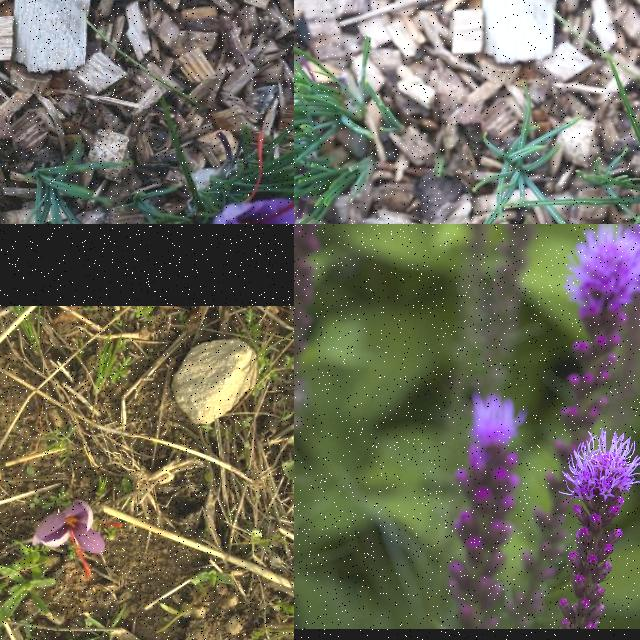flower: (213, 136, 294, 224), (32, 500, 122, 578)
